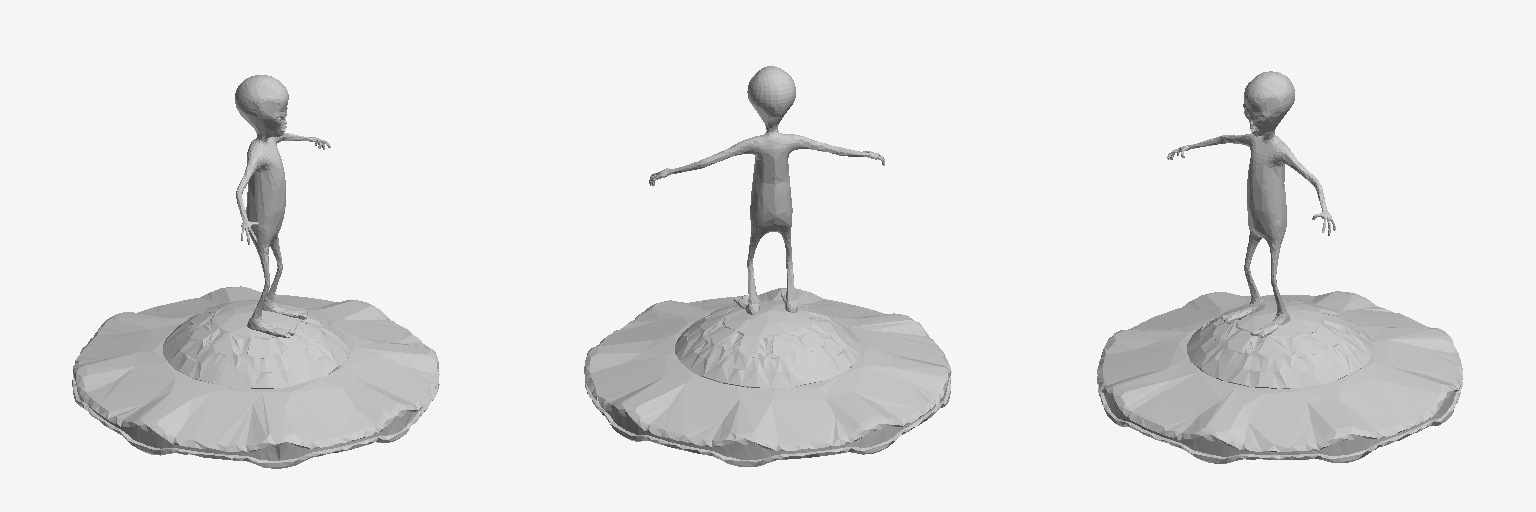
File: frame_093.obj
3 renders of one model, left to right at view 1: azimuth 30°, elevation 25°; view 2: azimuth 150°, elevation 25°; view 3: azimuth 270°, elevation 25°, orthographic.
Parts seen in each view (by area): view 1: 13884_UFO_Saucer_v1_l2, 10469_GrayAlien_v01; view 2: 13884_UFO_Saucer_v1_l2, 10469_GrayAlien_v01; view 3: 13884_UFO_Saucer_v1_l2, 10469_GrayAlien_v01.
Part boxes in pixels (x1,y1,x2,y2): 13884_UFO_Saucer_v1_l2: (72, 286, 439, 468); 10469_GrayAlien_v01: (235, 75, 330, 337); 13884_UFO_Saucer_v1_l2: (584, 288, 951, 466); 10469_GrayAlien_v01: (649, 66, 884, 314); 13884_UFO_Saucer_v1_l2: (1097, 291, 1462, 463); 10469_GrayAlien_v01: (1167, 71, 1335, 337).
Bounding box in the file's own units: 12.69 × 14.01 × 12.7.